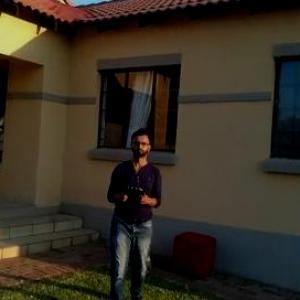follow: (99, 121, 167, 299)
